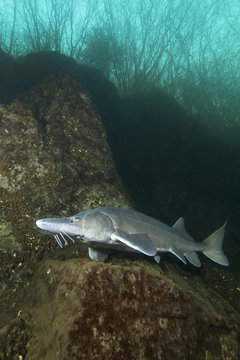Sturgeon: (25, 194, 237, 277)
